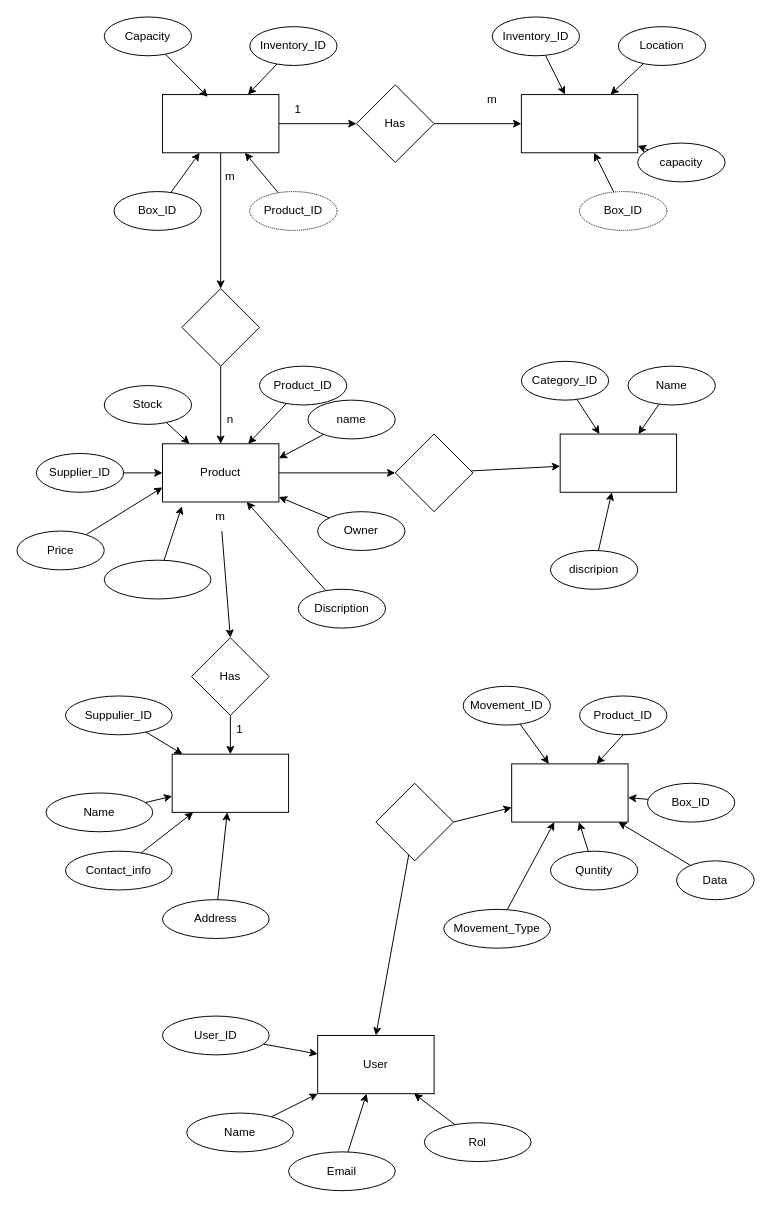
The diagram is 771 pixels wide and 1208 high, and some of its shapes have lost their labels. The box of each missing label's shape, as (x1, y1, x2, y2) in pixels:
Belong: (394, 433, 473, 512)
Box: (162, 94, 279, 153)
Category: (559, 433, 677, 492)
Contain: (181, 288, 259, 366)
Inventory: (520, 94, 638, 153)
manage: (375, 782, 453, 861)
Stock_Movement: (511, 763, 628, 822)
Supplier: (171, 753, 289, 812)
Total_Quantity: (103, 559, 211, 599)
